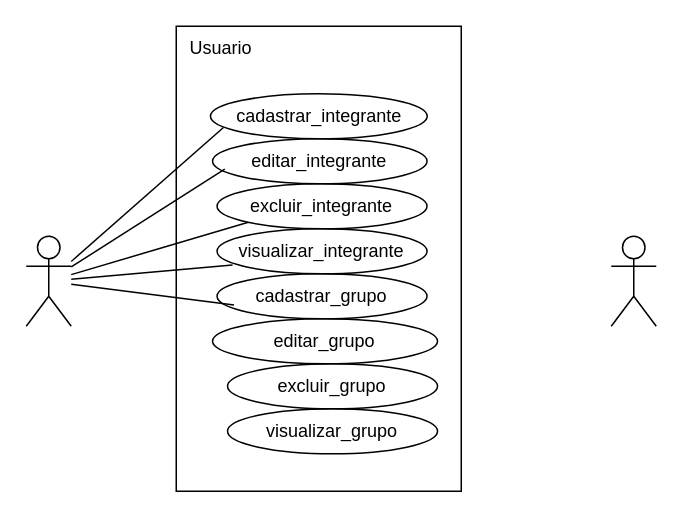
The diagram is 699 pixels wide and 518 high, and some of its shapes have lost their labels. Each missing label, with the centre of its shape:
Adm: (x=48, y=280)
integrante: (x=633, y=280)
